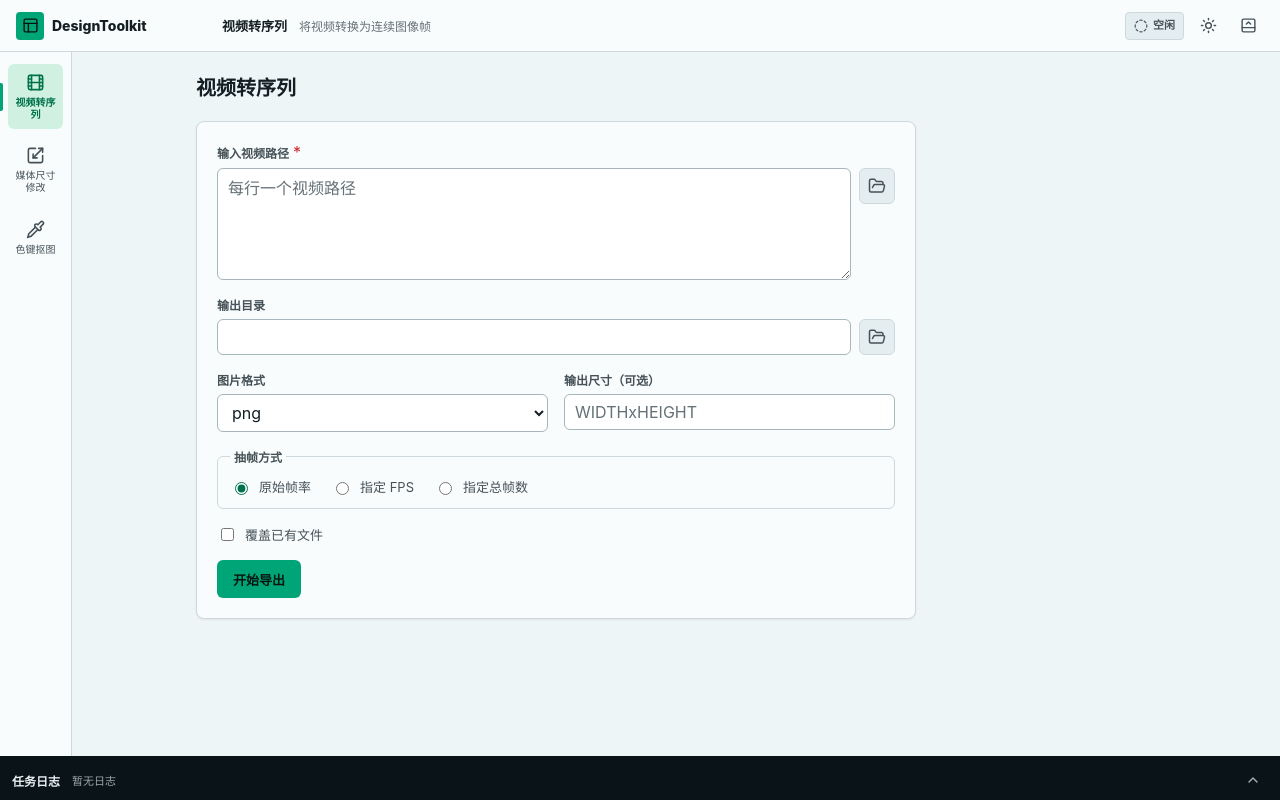
it: AppShell › supports keyboard navigation and dismissal in the theme menu
The image size is (1280, 800).
Click the button named "主题设置": (1208, 26) [1192,10,1224,42]
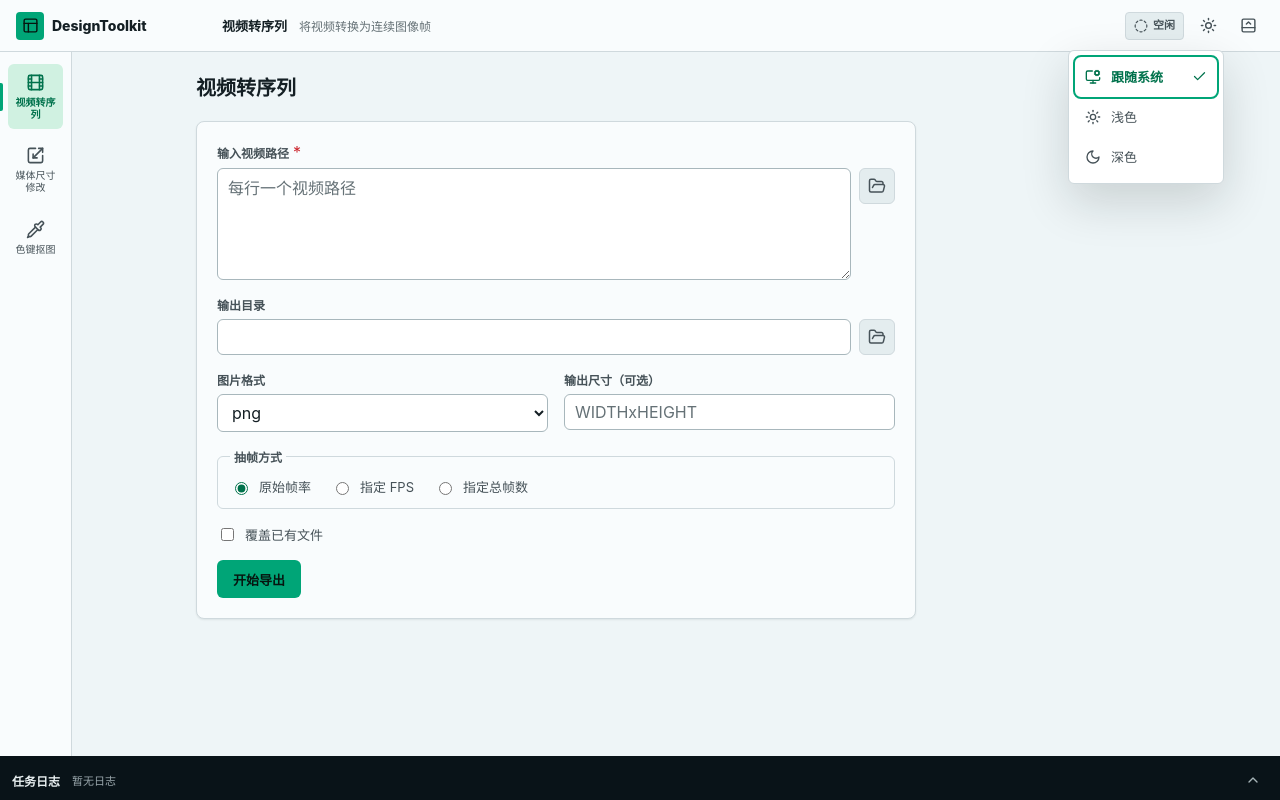
Press Arrowdown
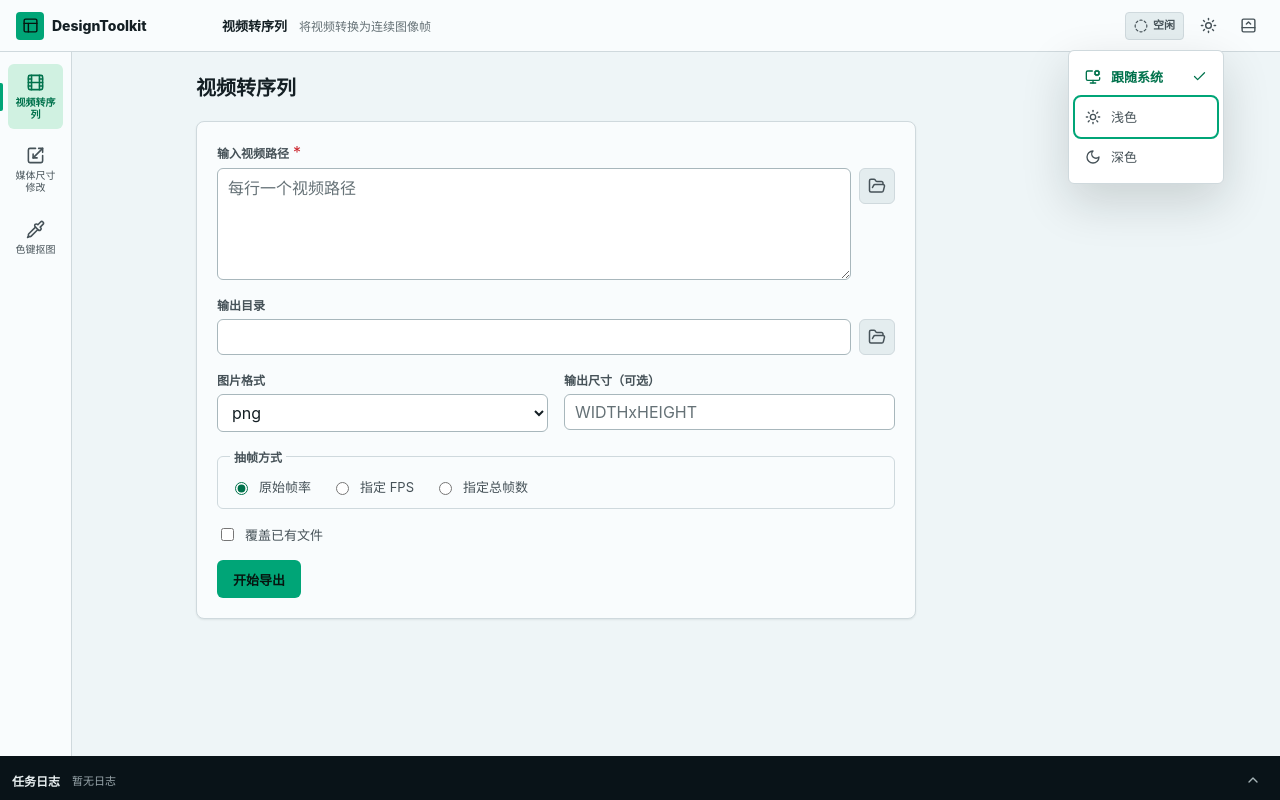
Press Escape
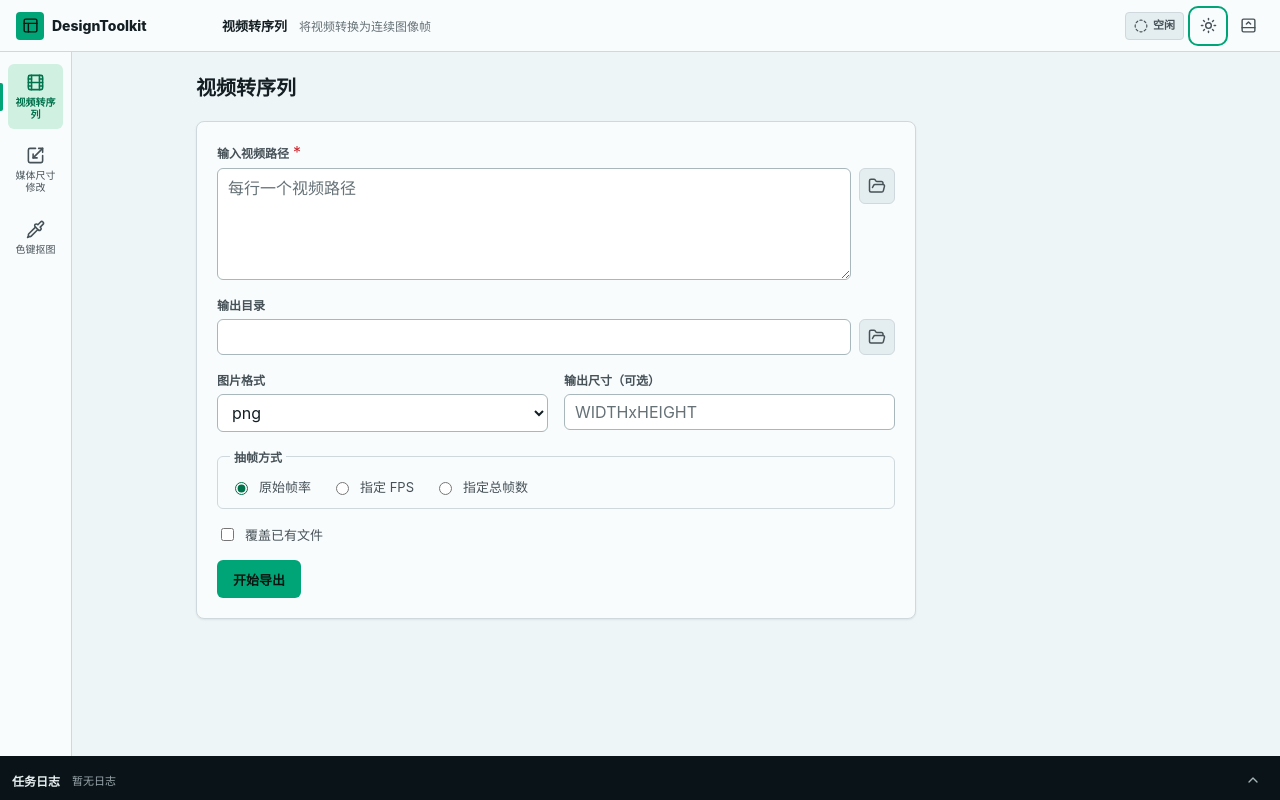
expect the menu "跟随系统 浅色 深色" is gone: met
